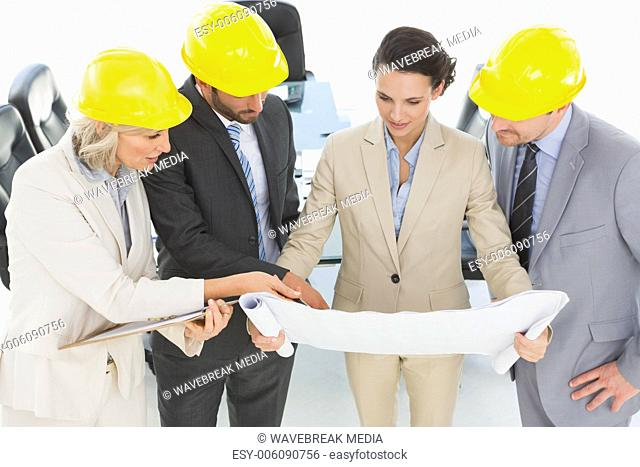Person_wearing_helmet: (462, 23, 599, 118), (57, 49, 191, 138)
